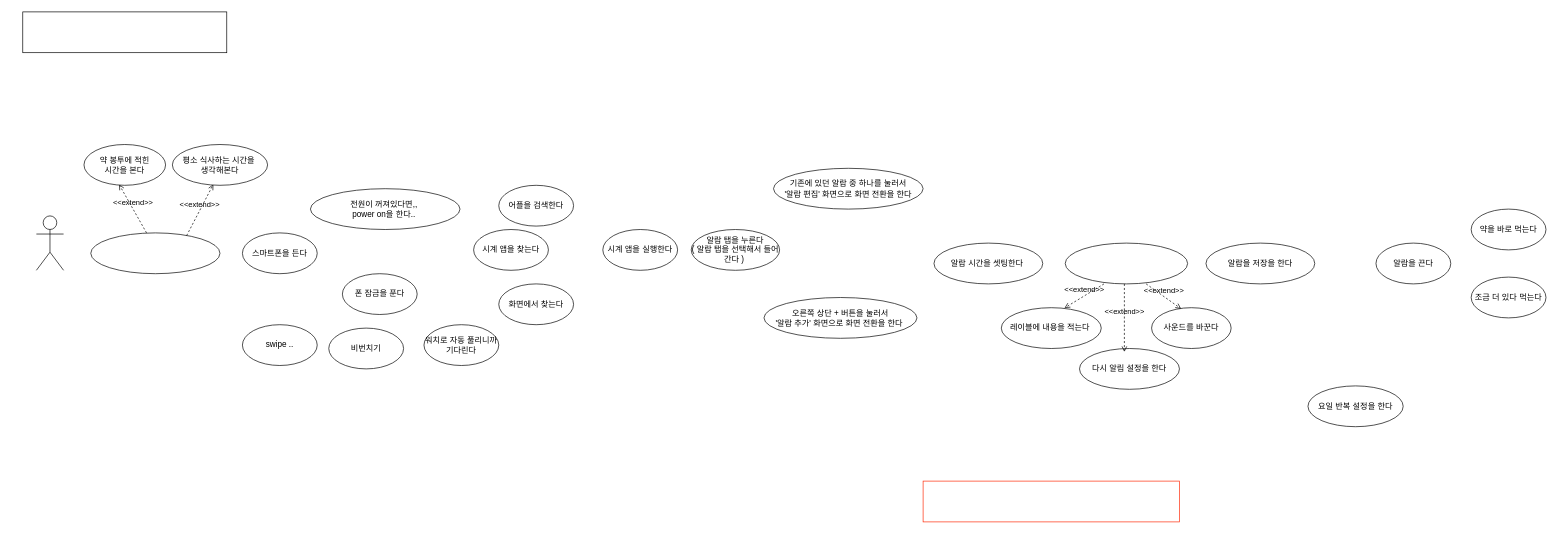
Image size: 1558x534. Some labels were removed from this diagram. Here are the shapes that lost their labels. From the top down, the centre of each, then its label:
(x=124, y=32): 주제 : 시계 어플리케이션 중 알람 기능을 사용하여 정기적으로 약을 먹는 시간 알람을 셋팅한다. 유스케이스 간 인과관계
(x=50, y=242): 정기적으로 약을 먹는 사람
(x=155, y=253): 약 먹는 시간에 맞춰서 알람을 맞춰야겠다는 생각을 한다
(x=1126, y=263): 반복 설정을 한다 (매일 필요한 경우 모든 요일)
(x=1050, y=501): Q. 그 외에 필요한 설정은 저장을 하기 전에 optional 할수있는데 이걸 어디다가 extend 하는거지 ?
